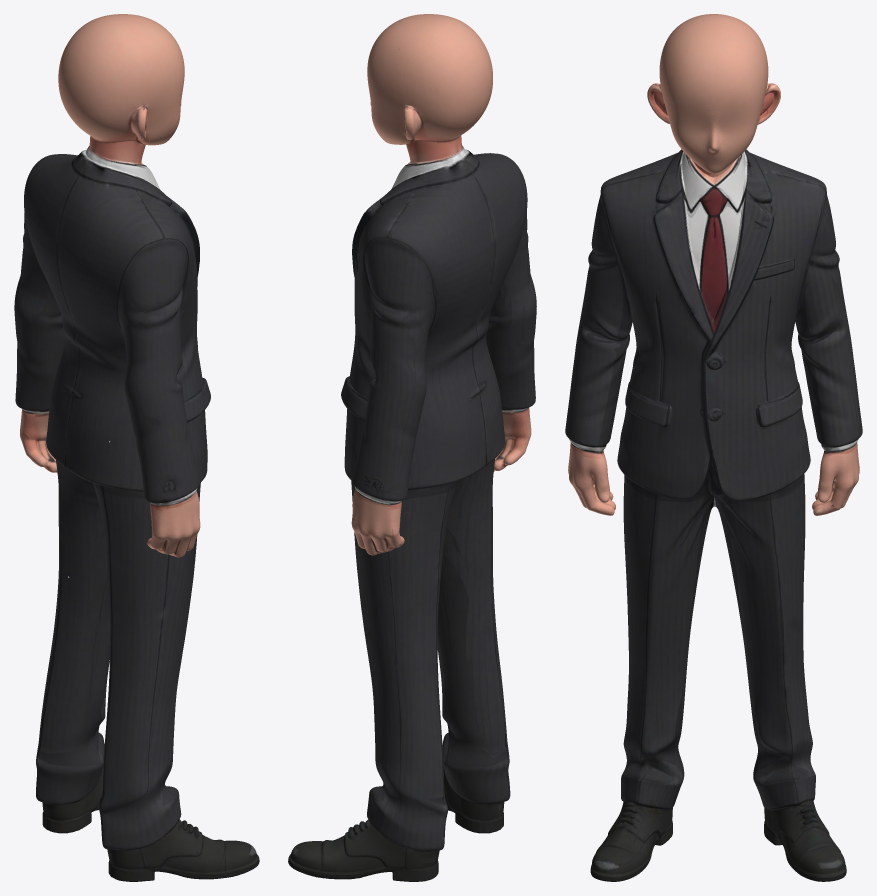
Rendered from man+in+suit+3d+model.glb.
3 renders of one model, left to right at view 1: azimuth 30°, elevation 25°; view 2: azimuth 150°, elevation 25°; view 3: azimuth 270°, elevation 25°, orthographic.
Visible parts, largest first — view 1: tripo_node_ce1502c9-50ad-4c09-bb0d-f21afdeef990; view 2: tripo_node_ce1502c9-50ad-4c09-bb0d-f21afdeef990; view 3: tripo_node_ce1502c9-50ad-4c09-bb0d-f21afdeef990.
Boxes of the visible parts, x1=… form: tripo_node_ce1502c9-50ad-4c09-bb0d-f21afdeef990: x1=14, y1=14, x2=259, y2=881; tripo_node_ce1502c9-50ad-4c09-bb0d-f21afdeef990: x1=288, y1=14, x2=536, y2=881; tripo_node_ce1502c9-50ad-4c09-bb0d-f21afdeef990: x1=565, y1=14, x2=862, y2=881.
Bounding box in the file's own units: 0.1873 × 0.9999 × 0.3272.
Materials: 1 (1 with a texture image).
